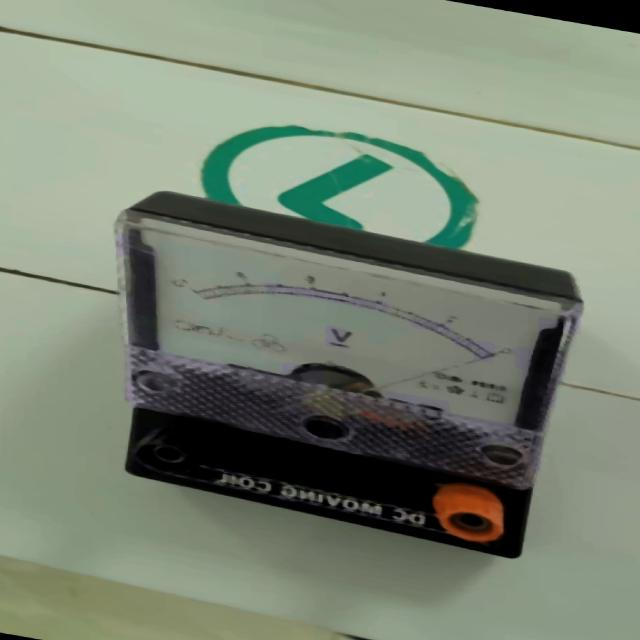Voltmeter: (102, 188, 612, 583)
